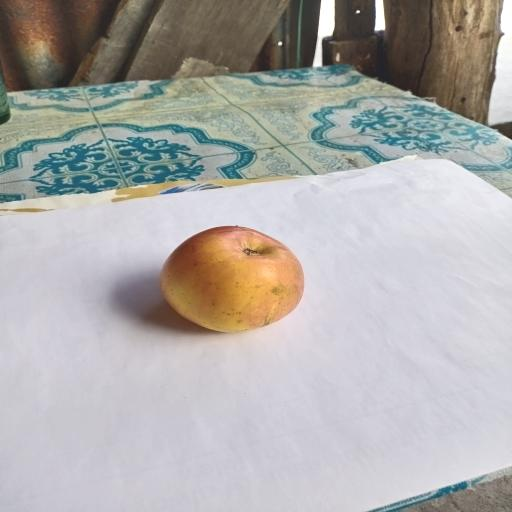apple-ripe: (151, 222, 317, 346)
